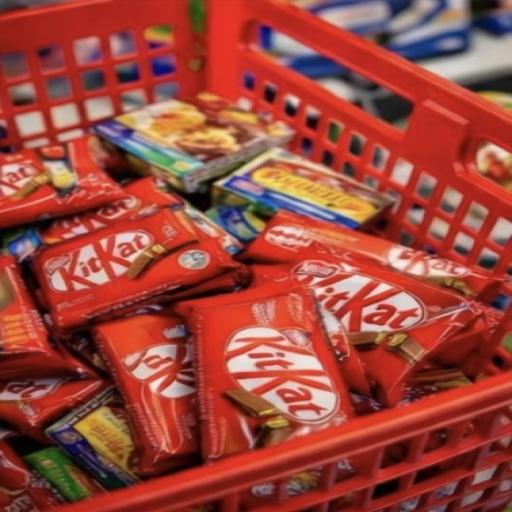kitkat: (155, 283, 500, 487), (0, 176, 267, 306)
